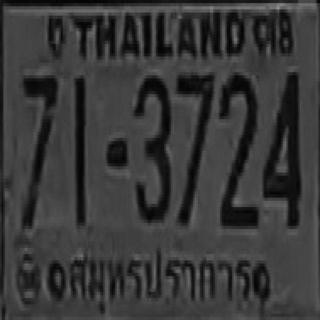N01: (74, 75, 85, 223)
N02: (219, 71, 257, 224)
N03: (134, 72, 169, 220)
N04: (261, 69, 300, 226)
N07: (175, 71, 212, 221), (20, 72, 56, 226)
P57: (68, 246, 254, 319)
